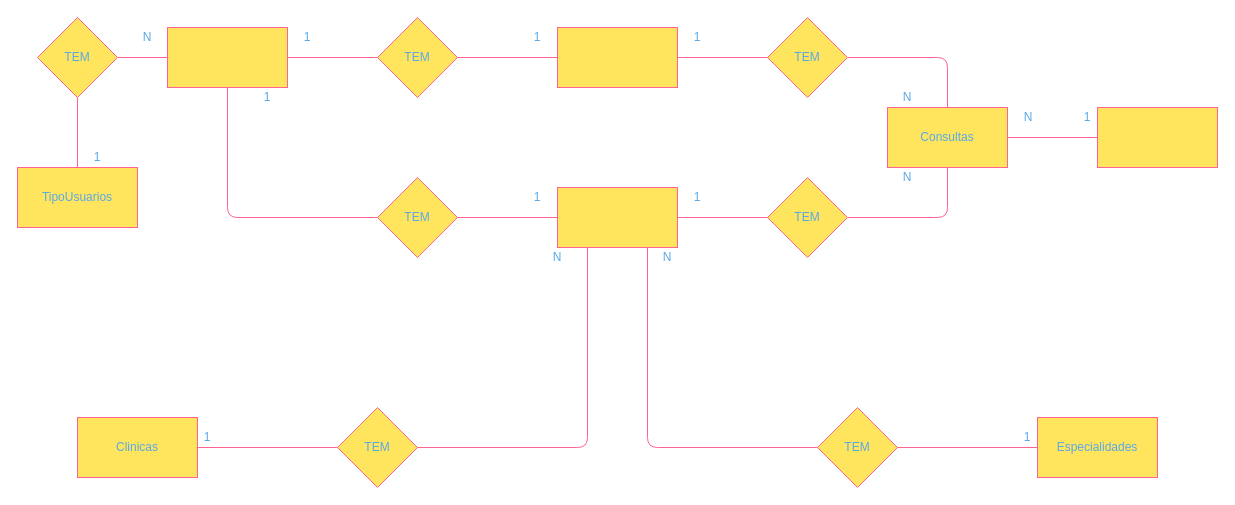
The diagram is 1235 pixels wide and 505 high, and some of its shapes have lost their labels. Here are the shapes that lost their labels. From the top down, the centre of each, then its label:
At point (227, 57): "Usuarios".
At point (617, 57): "Pacientes".
At point (1157, 137): "Situacao".
At point (617, 217): "Medicos".
